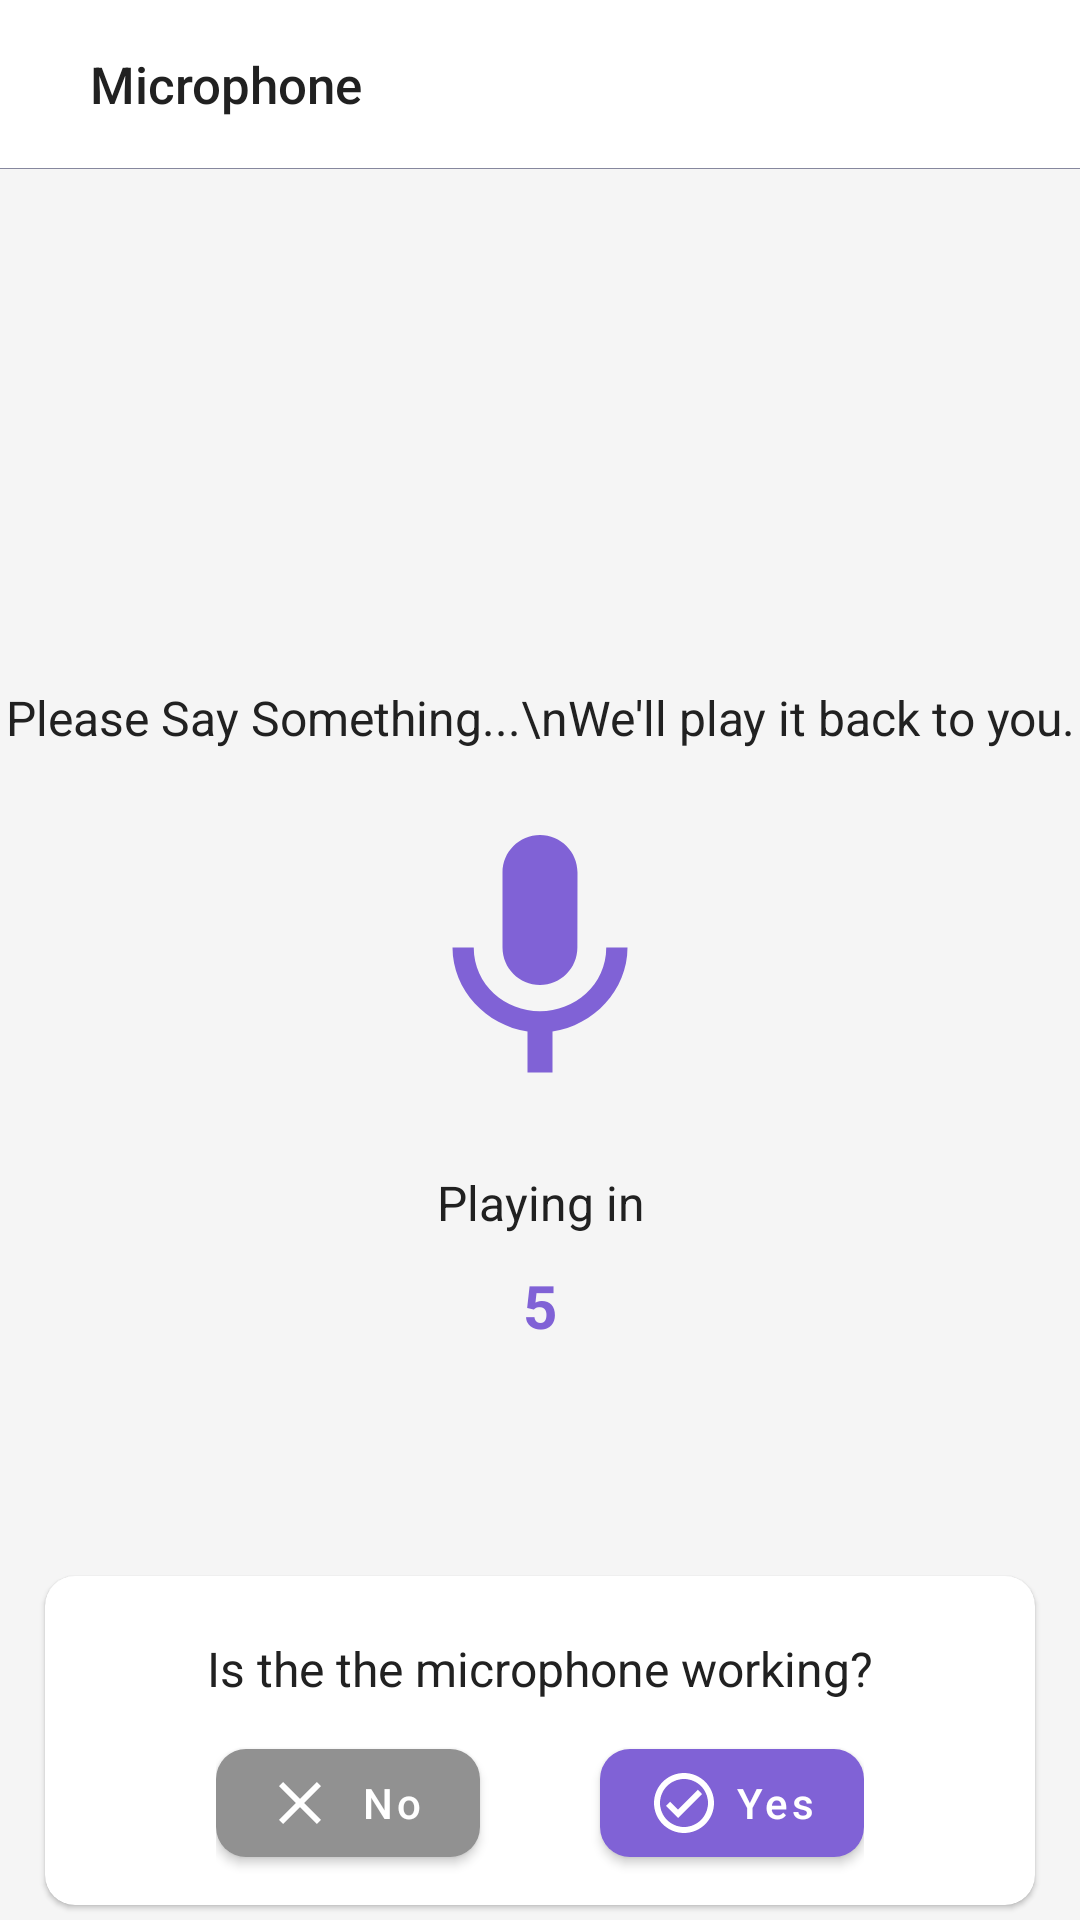

Named icons in this screenshot (1080x1920) and their bounding boxes, (x1, y1, x2, y2):
mic: (452, 835, 628, 1073)
